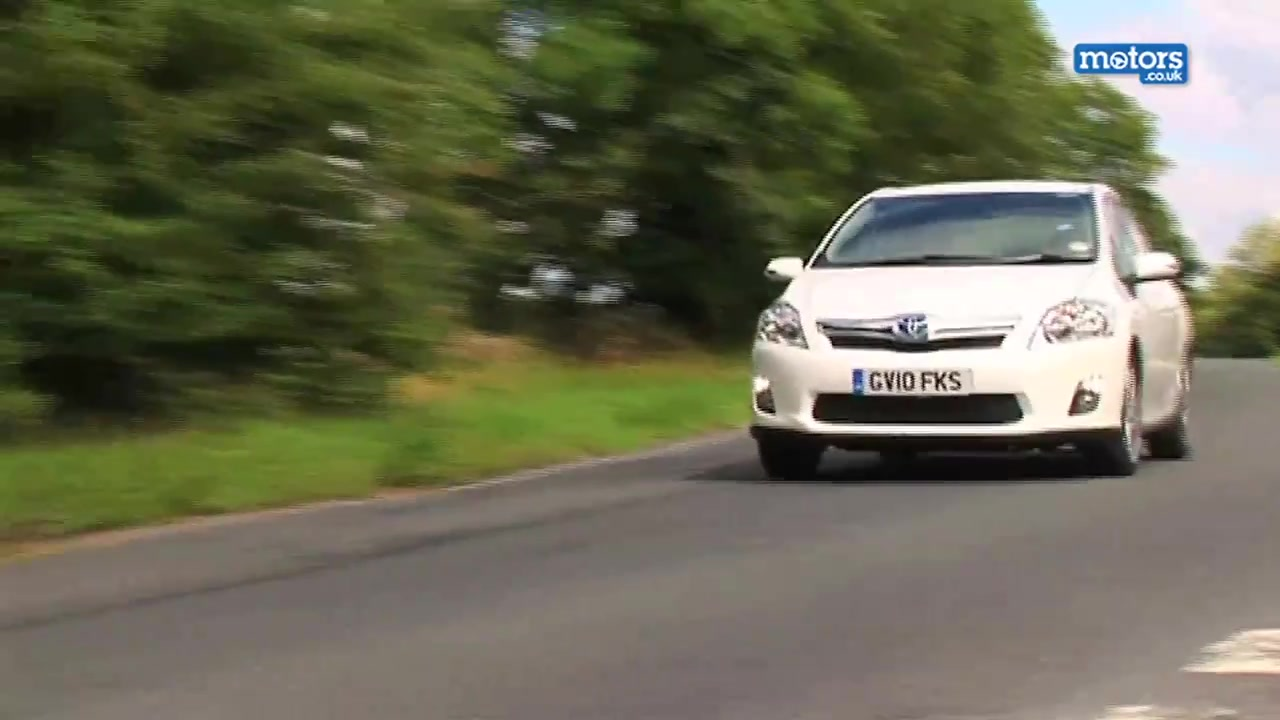car: (749, 174, 1198, 478)
